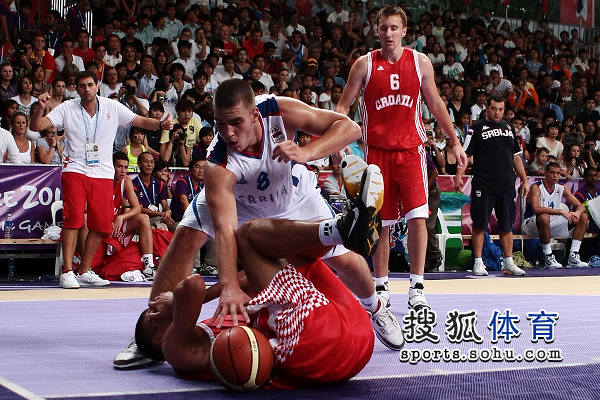10+: (1, 1, 600, 400)
down: (136, 221, 383, 382)
